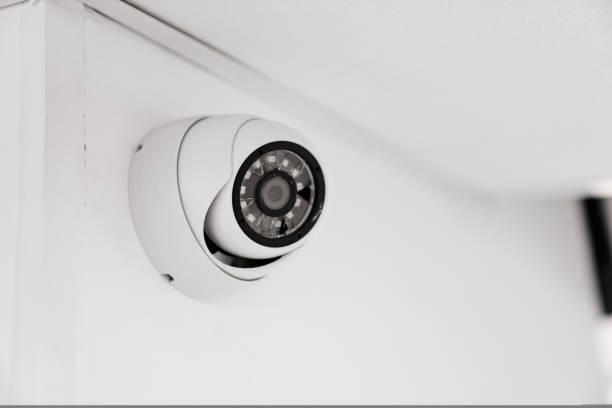camera: (125, 80, 336, 314)
